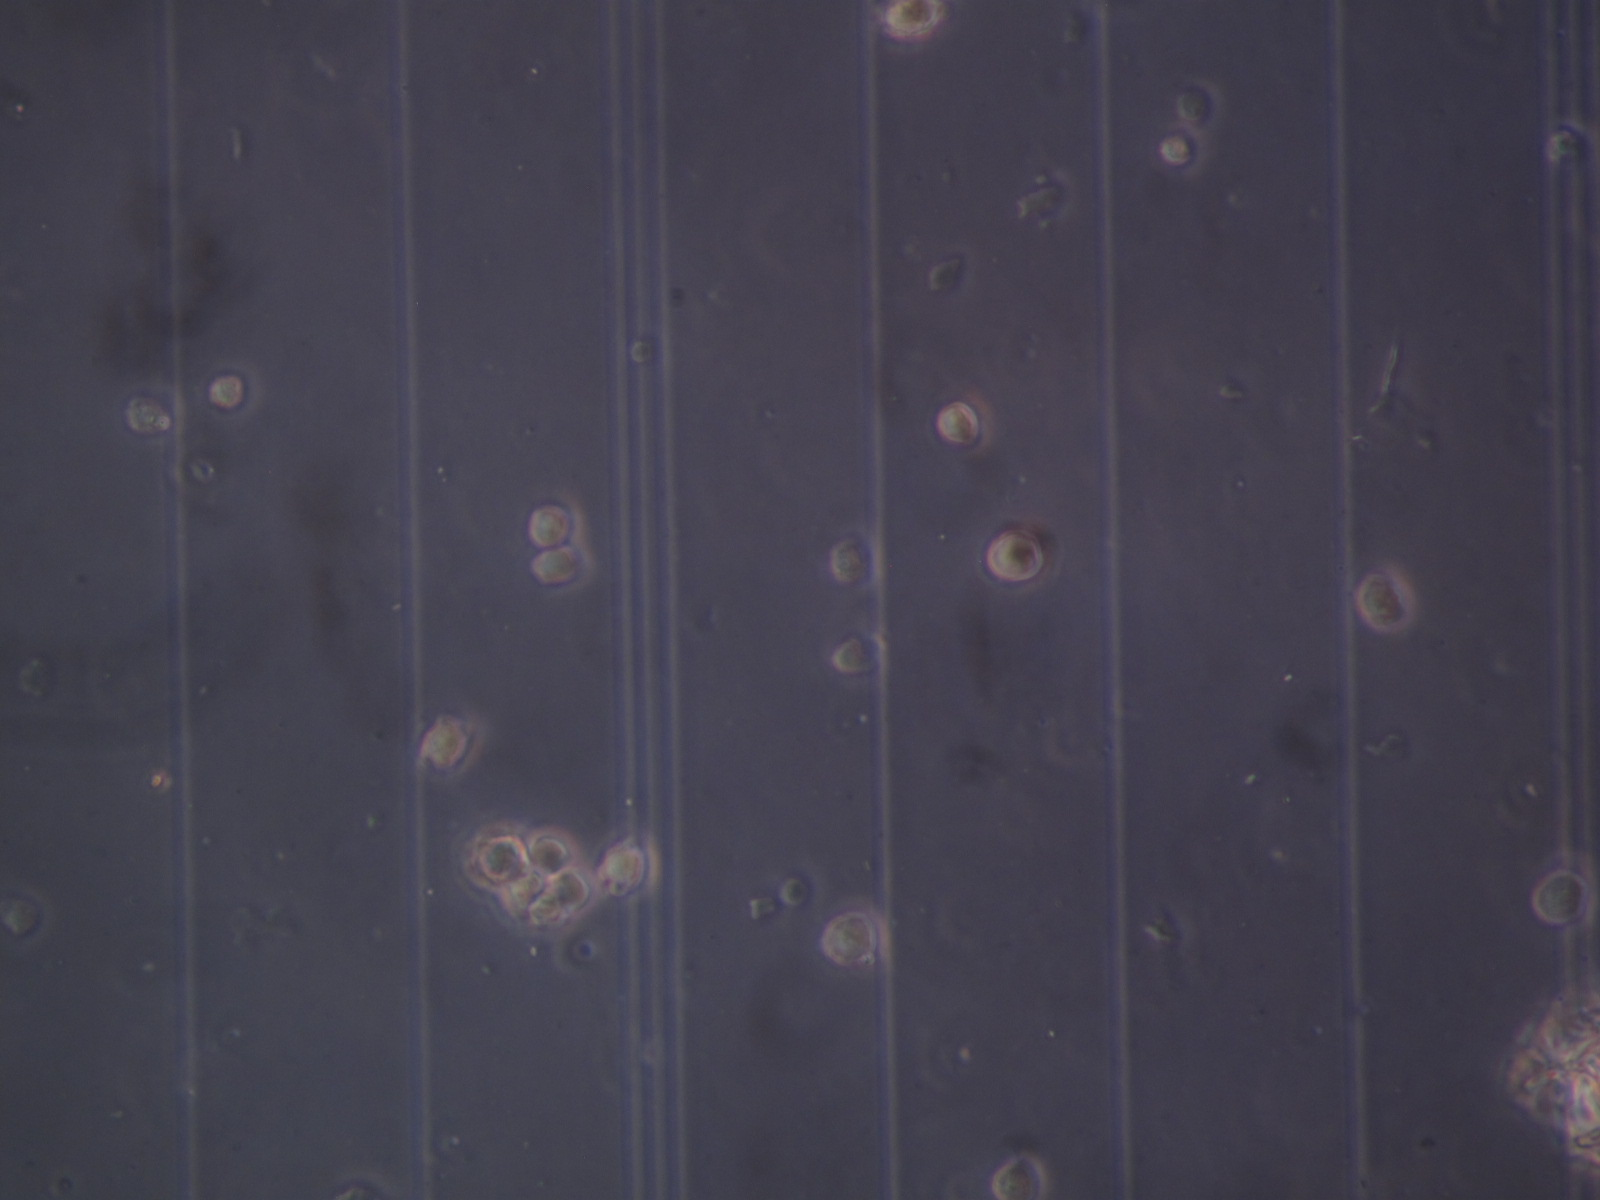hemo: (1531, 848, 1597, 929), (823, 897, 892, 969), (420, 710, 488, 780), (462, 824, 529, 886), (120, 379, 181, 446), (983, 522, 1044, 587), (1357, 566, 1417, 632), (202, 361, 265, 418), (936, 388, 993, 451), (829, 524, 883, 589), (831, 628, 889, 684), (530, 546, 598, 594), (530, 493, 585, 548), (595, 839, 646, 897), (991, 1150, 1049, 1200), (876, 1, 946, 42), (1175, 73, 1226, 129), (1157, 125, 1207, 176), (527, 823, 573, 875), (546, 868, 595, 916), (500, 872, 542, 916), (528, 892, 569, 932)
